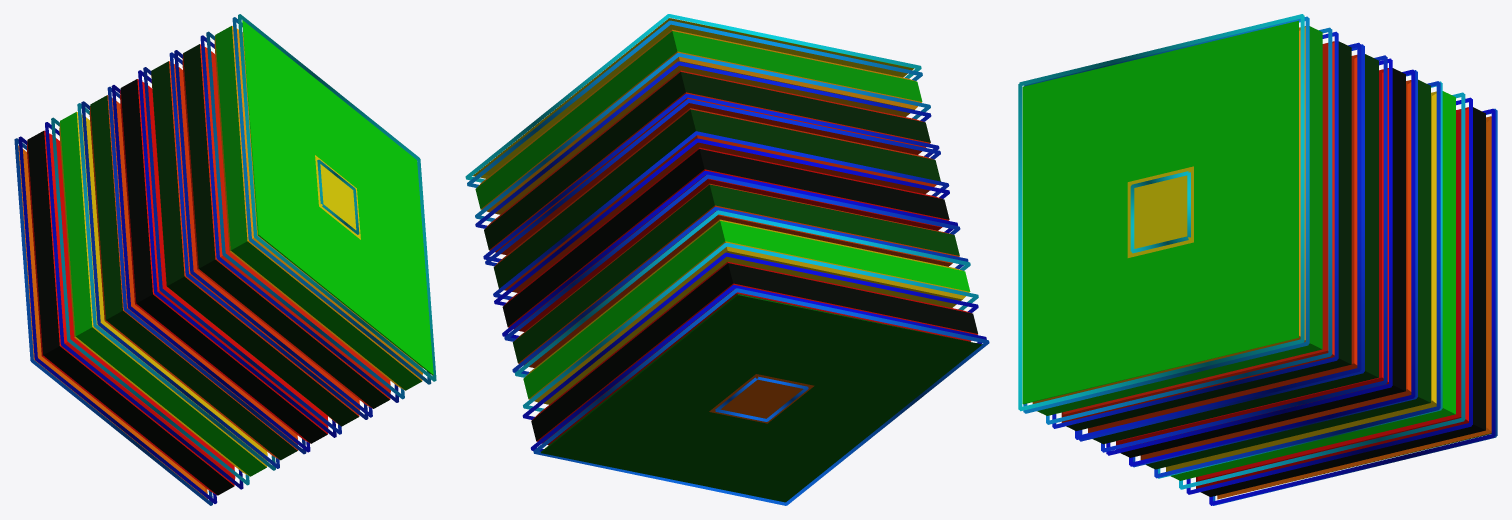
The model's file is FX_Mesh_Box_C_Rirez.fbx.
3 views of the same model, side by side, from view 1: azimuth 30°, elevation 25°; view 2: azimuth 150°, elevation 25°; view 3: azimuth 270°, elevation 25° (orthographic). The views are drawn at different scales.
Parts seen in each view (by area): view 1: Box_C_Rirez; view 2: Box_C_Rirez; view 3: Box_C_Rirez.
Boxes of the visible parts, x1,y1,x2,y2 form: Box_C_Rirez: (14,14,436,505); Box_C_Rirez: (465,14,989,505); Box_C_Rirez: (1018,14,1497,505).
Size of the model in its own units: 1728 by 1731 by 1420.
